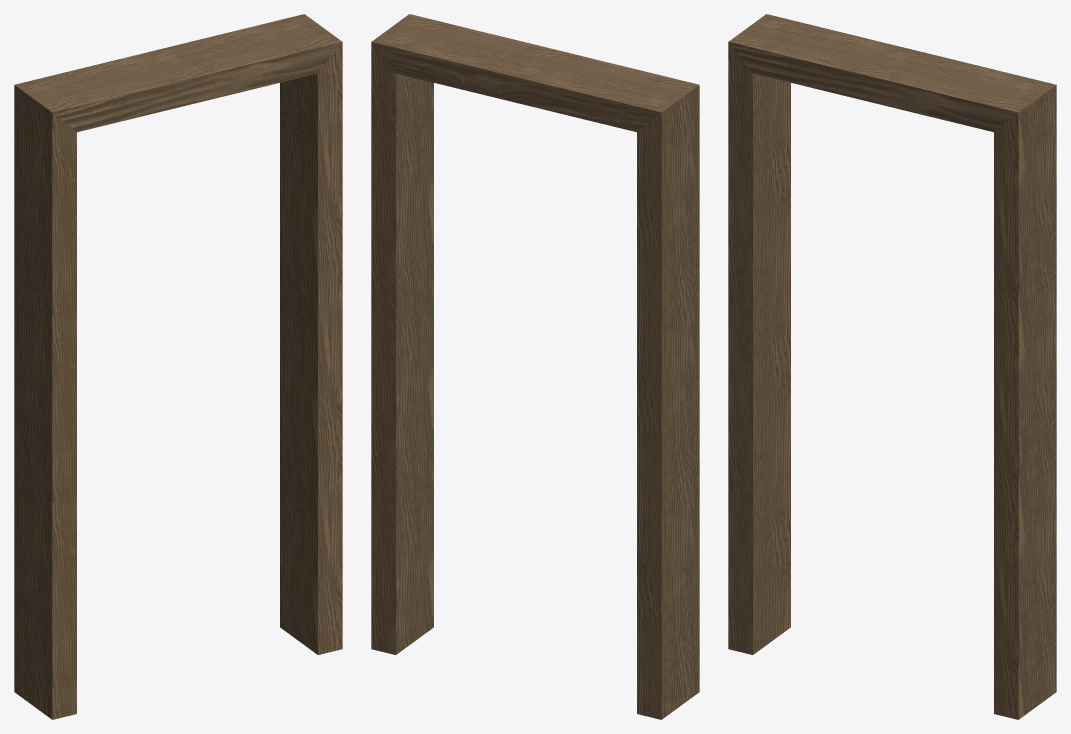
File: door_001.fbx
3 renders of one model, left to right at view 1: azimuth 30°, elevation 25°; view 2: azimuth 150°, elevation 25°; view 3: azimuth 330°, elevation 25°, orthographic.
Parts seen in each view (by area): view 1: door_001; view 2: door_001; view 3: door_001.
Boxes of the visible parts, <box> form: door_001: <box>14,14,342,719</box>; door_001: <box>371,14,699,719</box>; door_001: <box>728,14,1056,719</box>.
Size of the model in its own units: 115 by 26.01 by 229.
